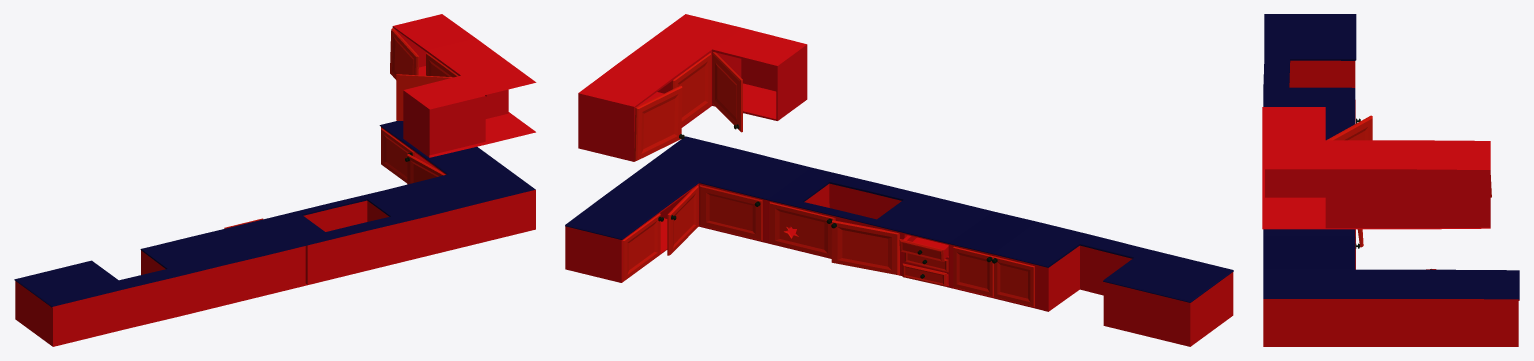
The model's file is AliceKitchenFurniture.fbx.
3 renders of one model, left to right at view 1: azimuth 30°, elevation 25°; view 2: azimuth 150°, elevation 25°; view 3: azimuth 270°, elevation 25°, orthographic. The views are drawn at different scales.
Parts seen in each view (by area): view 1: Cube.012; view 2: Cube.012; view 3: Cube.012.
Part boxes in pixels (x1,y1,x2,y2): Cube.012: [14, 14, 536, 346]; Cube.012: [565, 14, 1233, 346]; Cube.012: [1262, 14, 1519, 346].
Bounding box in the file's own units: 1540 × 587 × 448.
